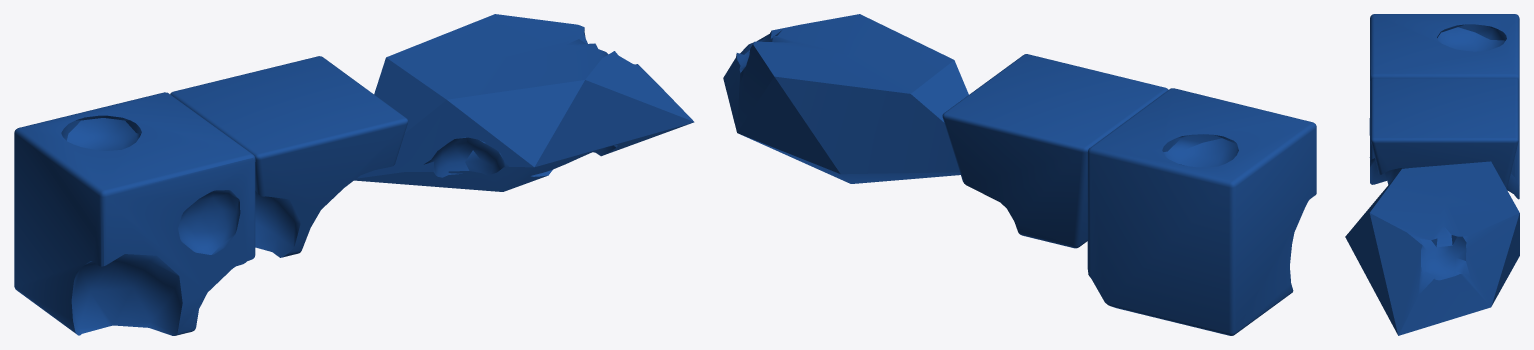
The model's file is PLATFORM_02 (1).fbx.
3 views of the same model, side by side, from view 1: azimuth 30°, elevation 25°; view 2: azimuth 150°, elevation 25°; view 3: azimuth 270°, elevation 25° (orthographic). The views are drawn at different scales.
Parts seen in each view (by area): view 1: UST_01, UST_03, UST_02; view 2: UST_01, UST_03, UST_02; view 3: UST_03, UST_02, UST_01.
Boxes of the visible parts, <box> form: UST_01: <box>14,92,255,335</box>; UST_03: <box>354,14,694,191</box>; UST_02: <box>170,56,408,257</box>; UST_01: <box>1087,88,1316,335</box>; UST_03: <box>723,14,968,183</box>; UST_02: <box>942,54,1168,248</box>; UST_03: <box>1345,161,1519,335</box>; UST_02: <box>1370,78,1518,189</box>; UST_01: <box>1369,14,1519,199</box>.
Size of the model in its own units: 785 by 201 by 234.
